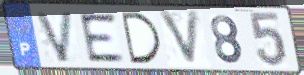5: (246, 11, 289, 70)
8: (210, 14, 245, 65)
D: (119, 11, 165, 66)
E: (76, 11, 127, 64)
V: (157, 9, 203, 70), (33, 10, 75, 64)
